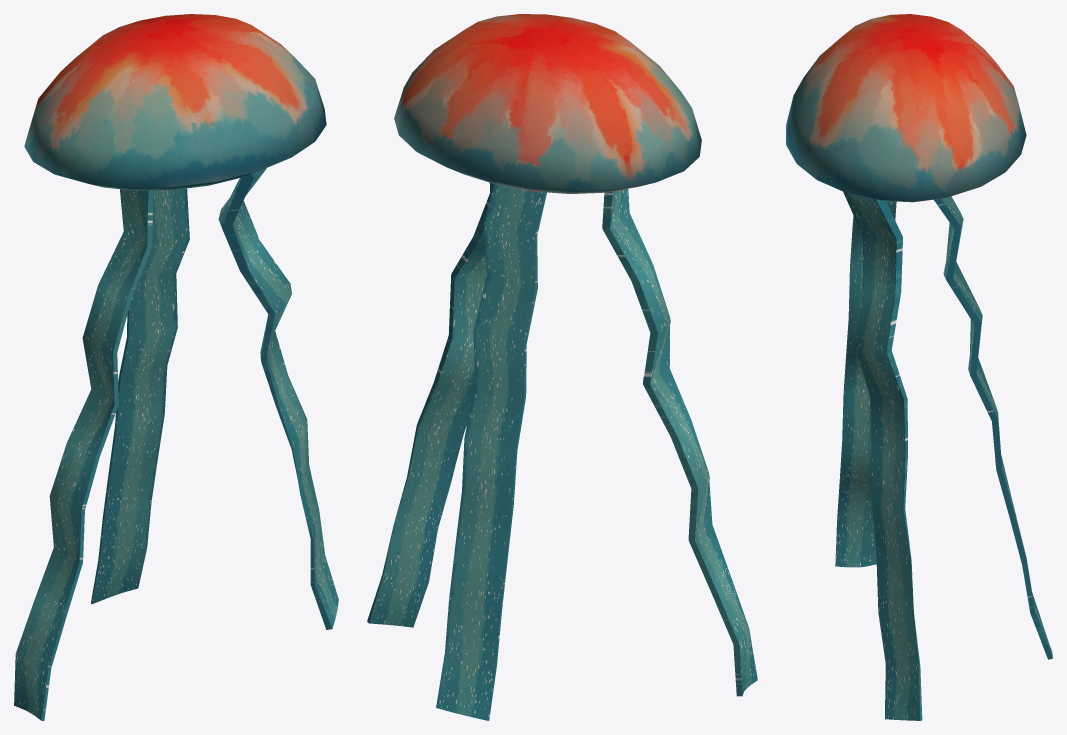
The model's file is Jellyfish with hair.fbx.
The picture shows the model from 3 angles, left to right: view 1: azimuth 30°, elevation 25°; view 2: azimuth 150°, elevation 25°; view 3: azimuth 270°, elevation 25°; orthographic projection. The views are drawn at different scales.
Parts seen in each view (by area): view 1: Jellyfish; view 2: Jellyfish; view 3: Jellyfish.
Part boxes in pixels (x1=…): Jellyfish: x1=14, y1=14, x2=338, y2=720; Jellyfish: x1=367, y1=14, x2=757, y2=720; Jellyfish: x1=786, y1=14, x2=1052, y2=720.
Bounding box in the file's own units: 40.99 × 70.89 × 27.92.
